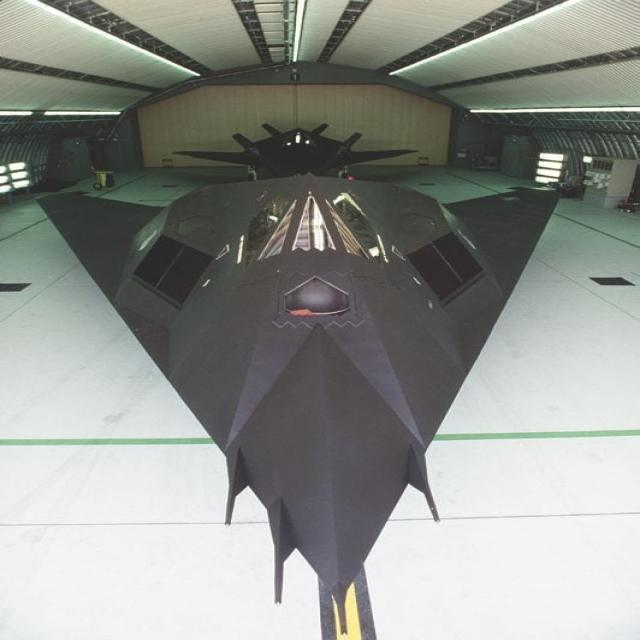F117: (12, 135, 640, 640)
